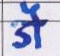ai_matra: (21, 1, 40, 21)
